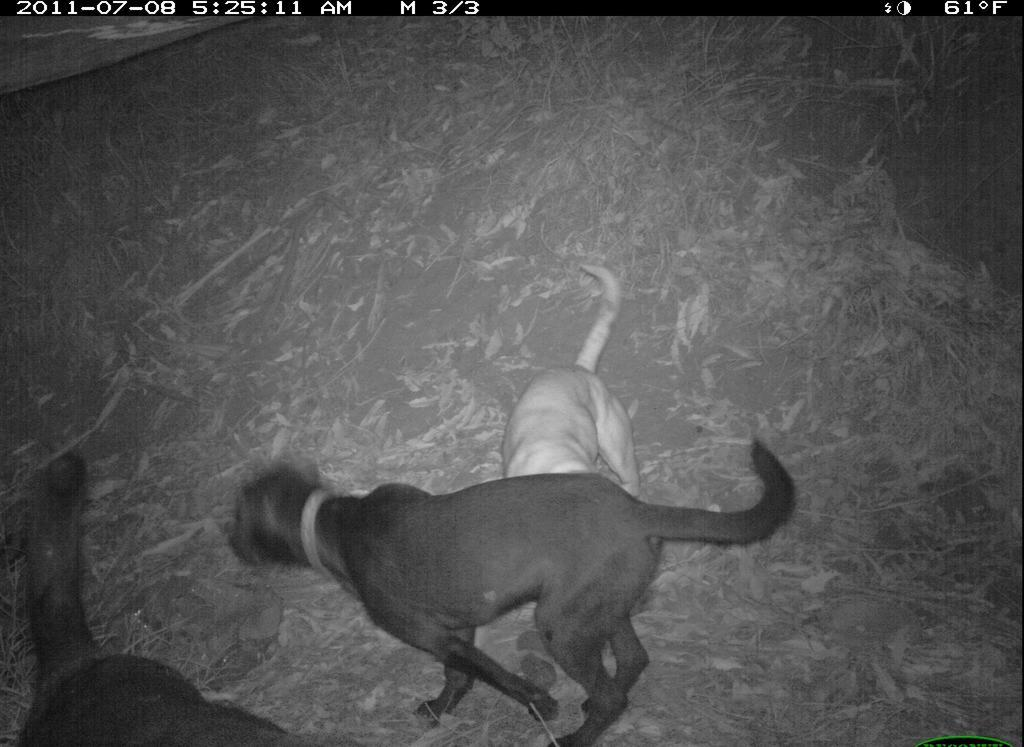dog: (228, 443, 822, 720), (17, 449, 344, 747), (491, 262, 647, 502)
